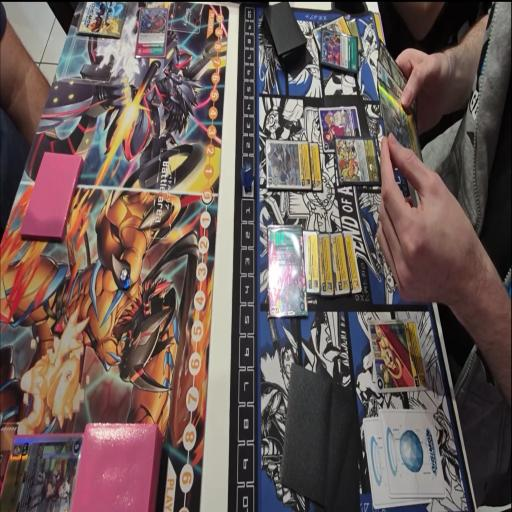card: (0, 425, 85, 511), (368, 321, 426, 397), (377, 80, 420, 170), (267, 227, 302, 319), (265, 136, 312, 188), (334, 134, 379, 182), (316, 105, 362, 148), (312, 16, 351, 60), (135, 8, 168, 56), (332, 222, 350, 302), (322, 35, 359, 73), (342, 226, 362, 296), (318, 225, 332, 301), (306, 223, 319, 296), (308, 141, 324, 195), (349, 17, 363, 52)
